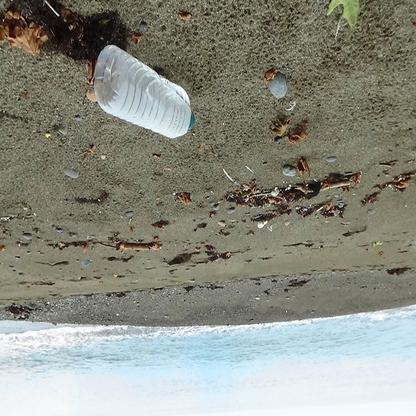plastic bottle: (92, 44, 197, 139)
